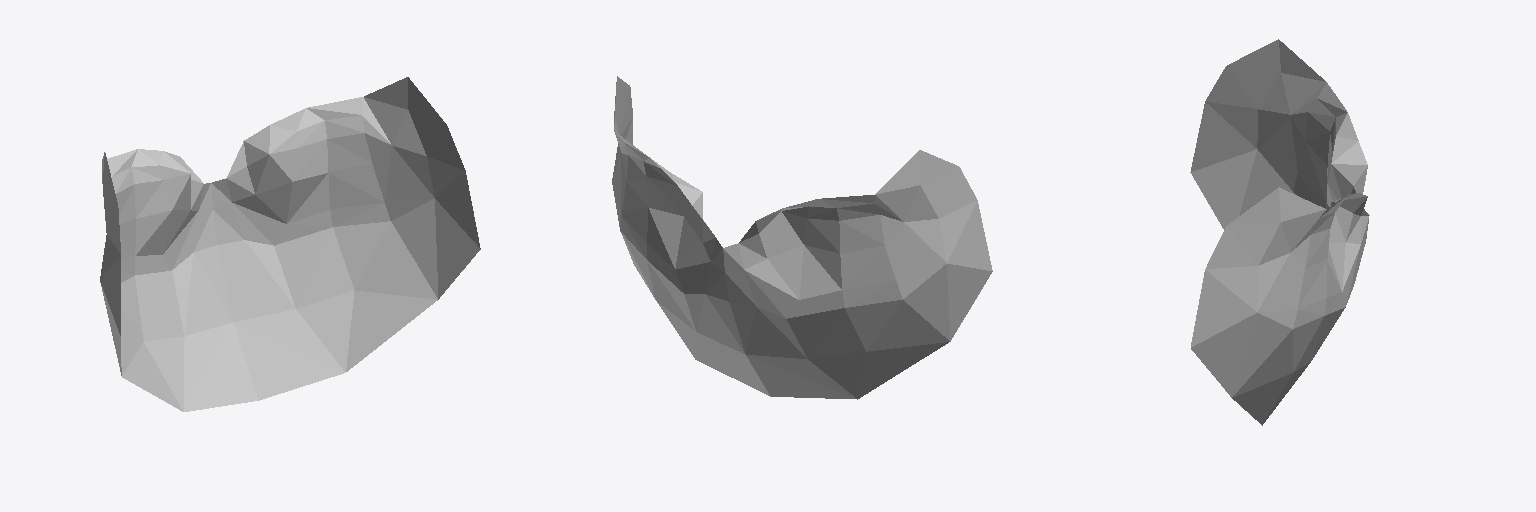
Rendered from cee000_00_d.obj.
3 views of the same model, side by side, from view 1: azimuth 30°, elevation 25°; view 2: azimuth 150°, elevation 25°; view 3: azimuth 270°, elevation 25° (orthographic).
Visible parts, largest first — view 1: unnamed.002; view 2: unnamed.002; view 3: unnamed.002.
Part boxes in pixels (bbox=[...]): unnamed.002: bbox=[100, 77, 480, 411]; unnamed.002: bbox=[612, 76, 992, 399]; unnamed.002: bbox=[1190, 39, 1369, 425].
Size of the model in its own units: 0.1724 by 0.1306 by 0.0743.